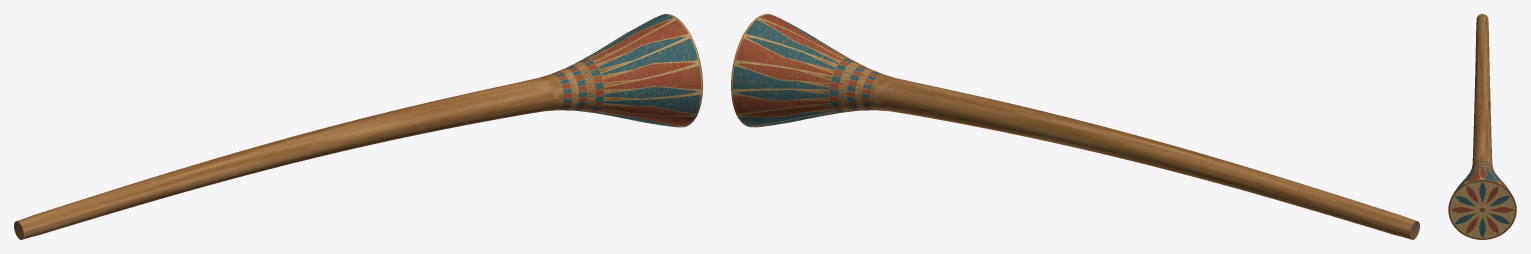
The model's file is silver-trumpet-core.glb.
3 renders of one model, left to right at view 1: azimuth 30°, elevation 25°; view 2: azimuth 150°, elevation 25°; view 3: azimuth 270°, elevation 25°, orthographic. The views are drawn at different scales.
Parts seen in each view (by area): view 1: duplicated-painted-wood-body; view 2: duplicated-painted-wood-body; view 3: solid-painted-lotus-end, duplicated-painted-wood-body.
Part boxes in pixels (x1,y1,x2,y2): duplicated-painted-wood-body: [17, 14, 702, 239]; duplicated-painted-wood-body: [731, 14, 1416, 239]; solid-painted-lotus-end: [1448, 180, 1516, 239]; duplicated-painted-wood-body: [1451, 14, 1513, 197].
Size of the model in its own units: 0.5833 by 0.0878 by 0.088.
Materials: 2 (2 with a texture image).
